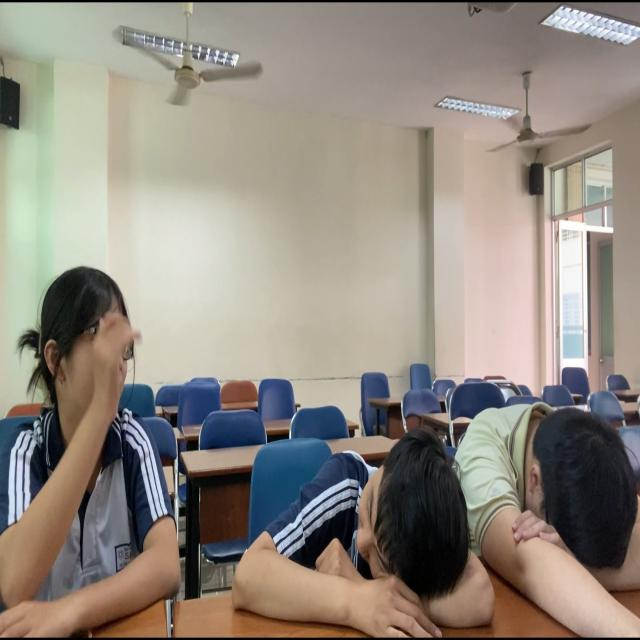sleep: (194, 430, 469, 640), (460, 404, 640, 640)
